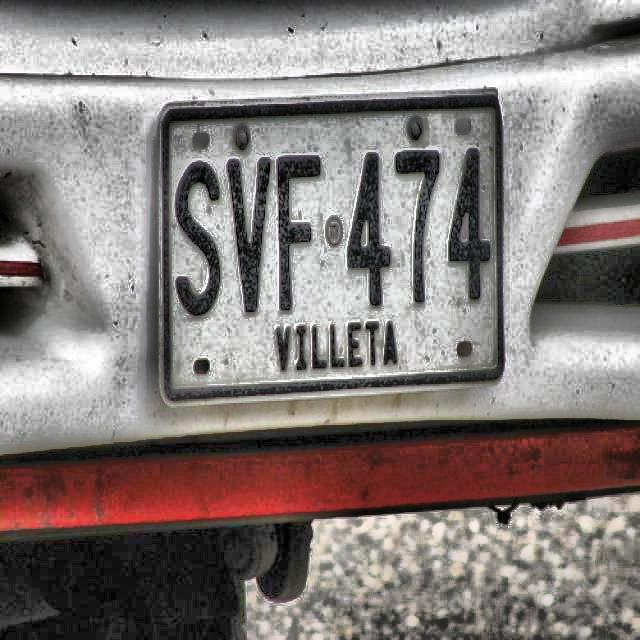plate: (166, 99, 502, 401)
